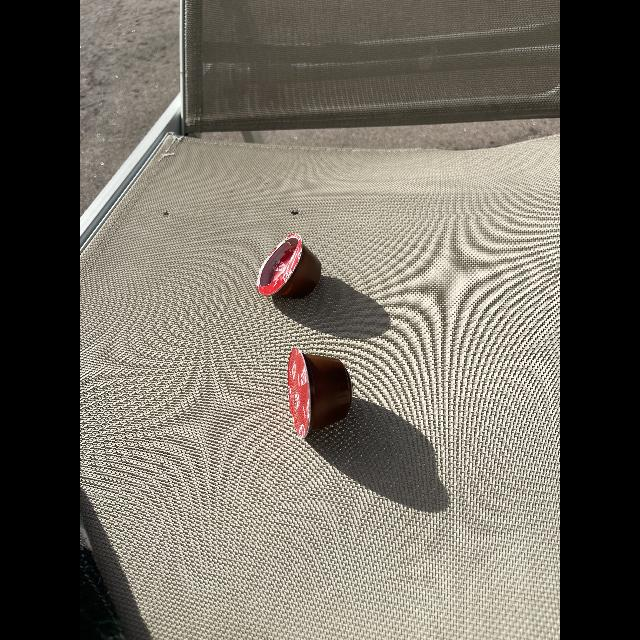damaged_capsule: (252, 229, 326, 305)
intact_capsule: (282, 346, 360, 444)
